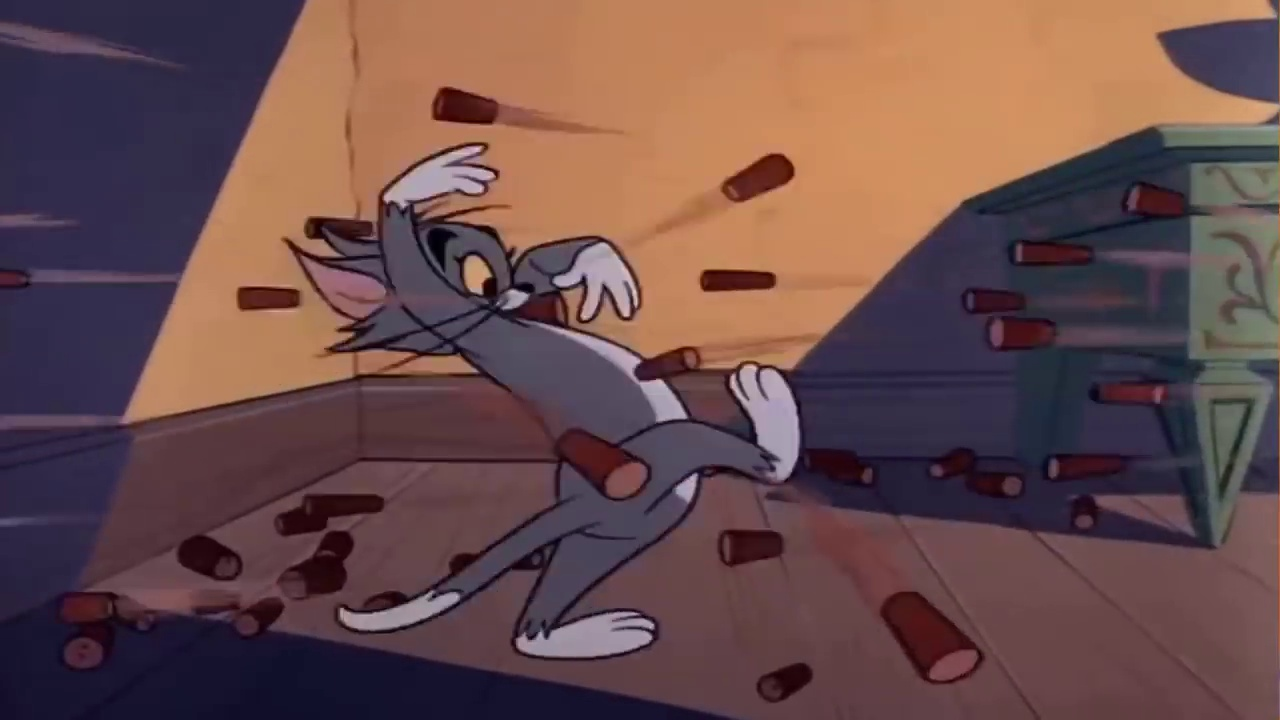face: (417, 210, 538, 339)
